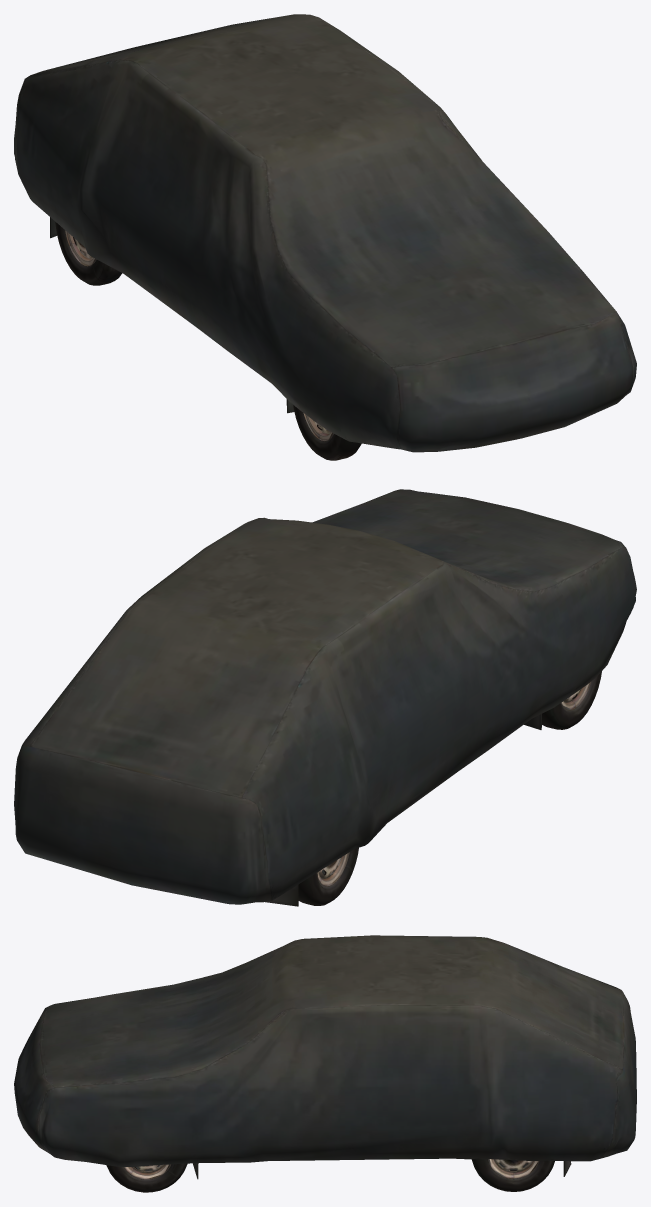
Rendered from g_car_covered.glb.
The picture shows the model from 3 angles, top to bottom: view 1: azimuth 30°, elevation 25°; view 2: azimuth 150°, elevation 25°; view 3: azimuth 270°, elevation 25°; orthographic projection. The views are drawn at different scales.
Visible parts, largest first — view 1: covered_car_wheel_01; view 2: covered_car_wheel_01; view 3: covered_car_wheel_01.
Part boxes in pixels (x1,y1,x2,y2): covered_car_wheel_01: (14, 14, 636, 460); covered_car_wheel_01: (14, 489, 636, 906); covered_car_wheel_01: (14, 935, 636, 1192).
Bounding box in the file's own units: 1.79 × 1.41 × 4.38.
1 material, 1 textured.
